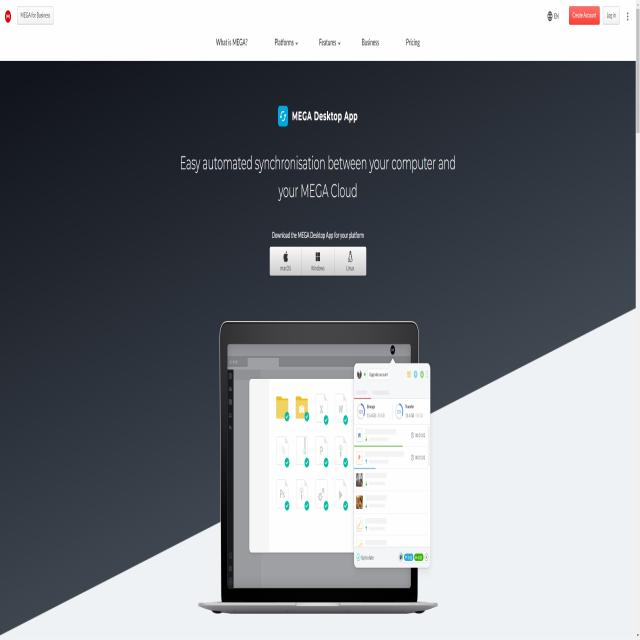menu-bar: (545, 4, 632, 29)
tab-bar: (212, 29, 428, 59)
